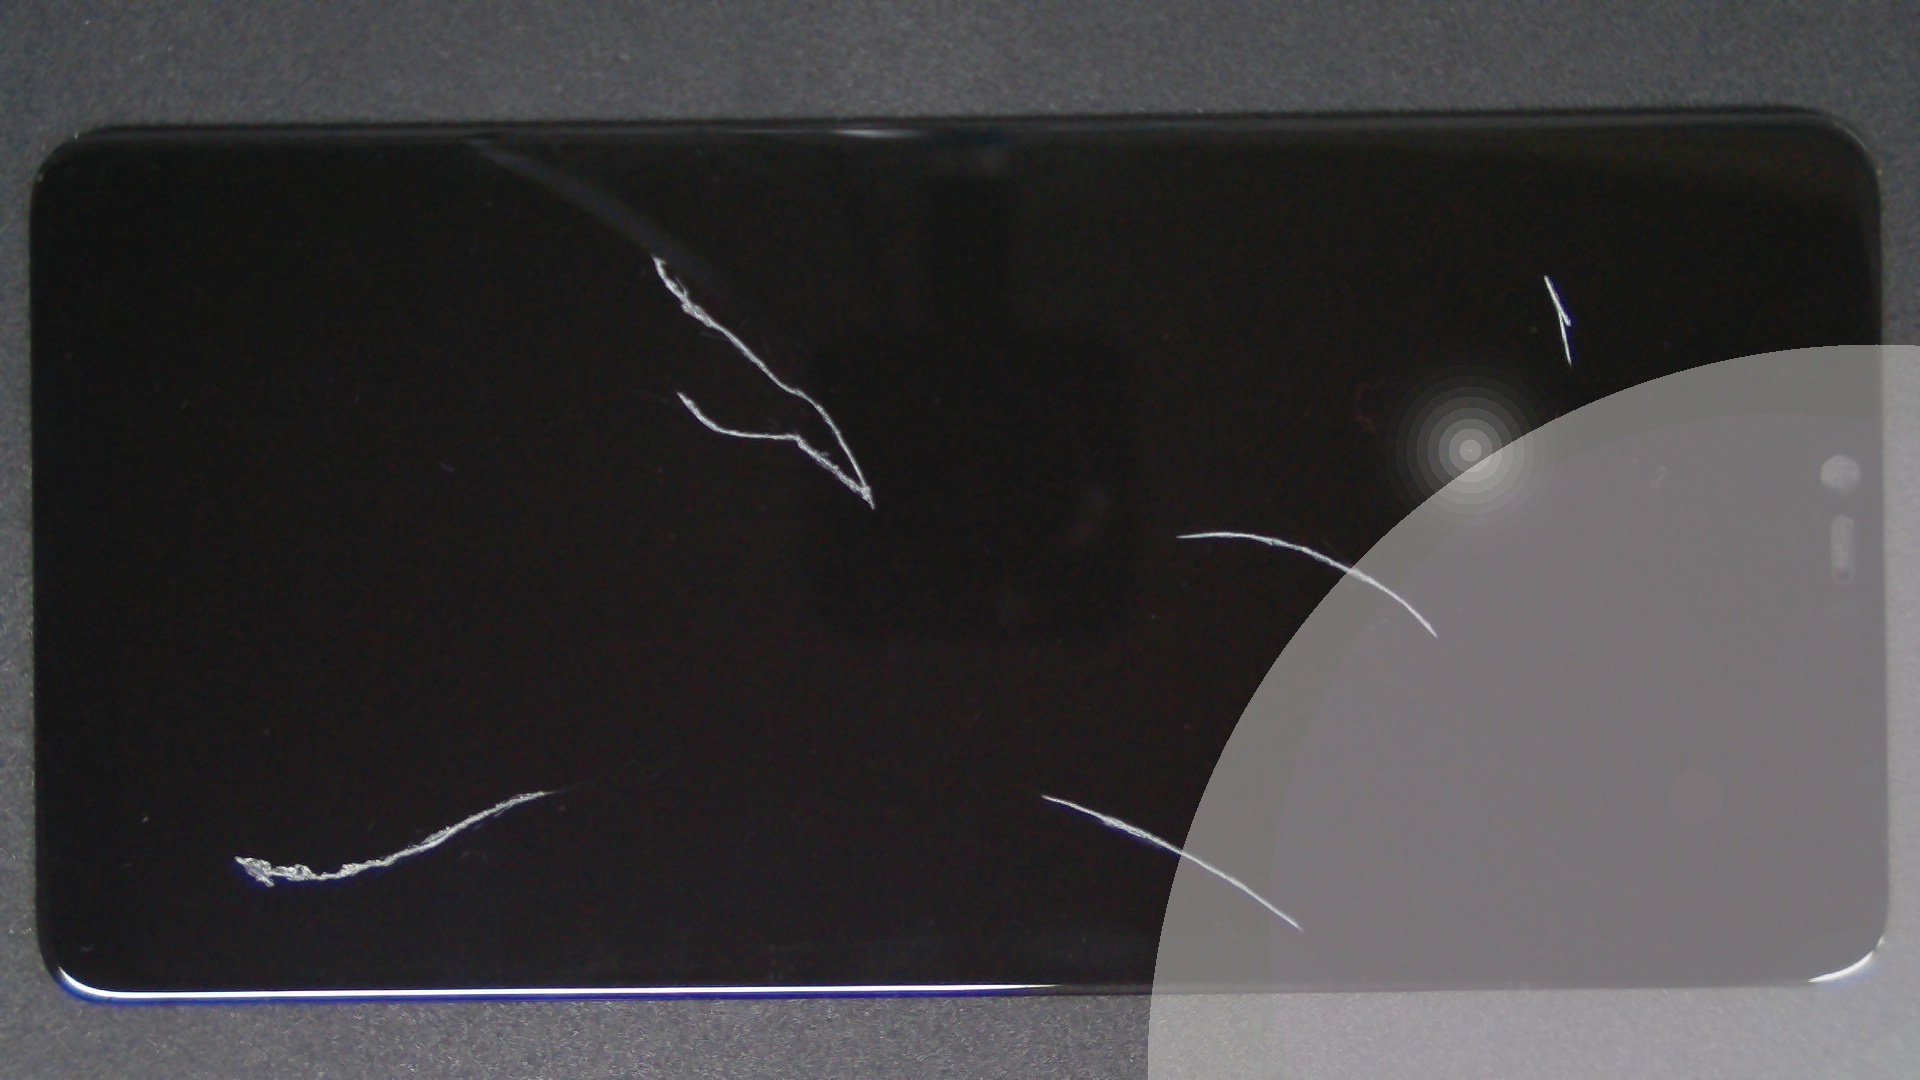oil: (522, 396, 1564, 1080), (605, 265, 1815, 795), (270, 394, 810, 1080), (771, 137, 1920, 411), (324, 125, 975, 378)
